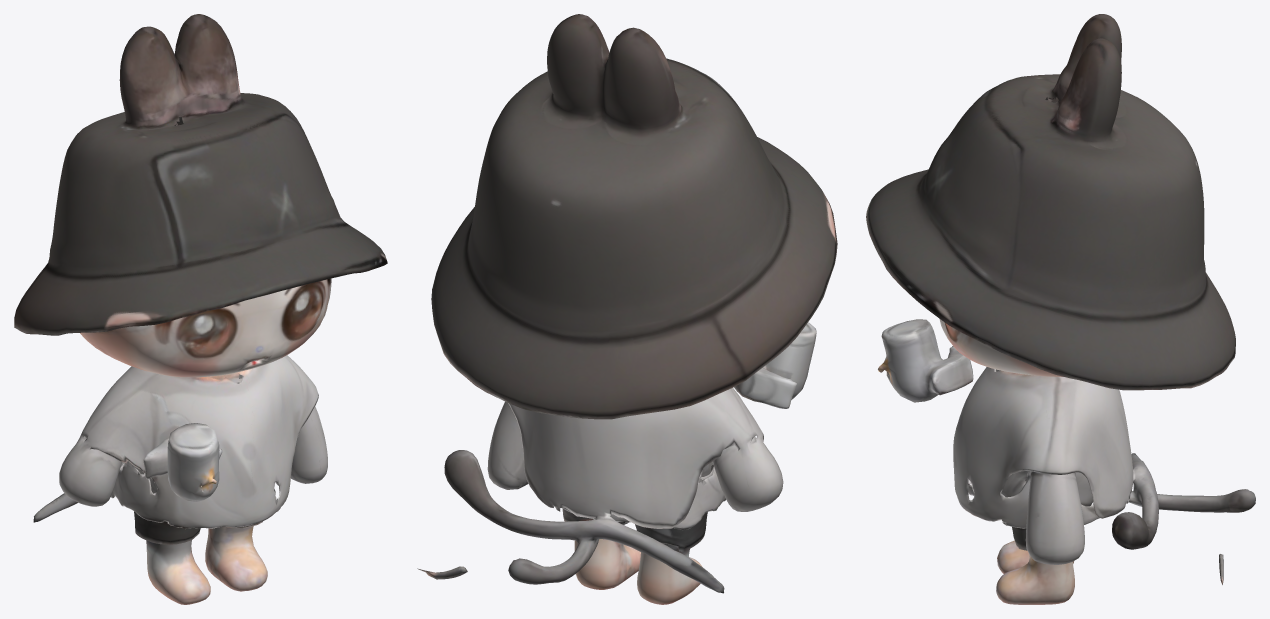
The model's file is Bunny_Boy_Sips_Tea_1003091734.glb.
3 renders of one model, left to right at view 1: azimuth 30°, elevation 25°; view 2: azimuth 150°, elevation 25°; view 3: azimuth 270°, elevation 25°, orthographic. The views are drawn at different scales.
Bounding box in the file's own units: 1.24 × 2 × 1.26.
Materials: 1 (1 with a texture image).
